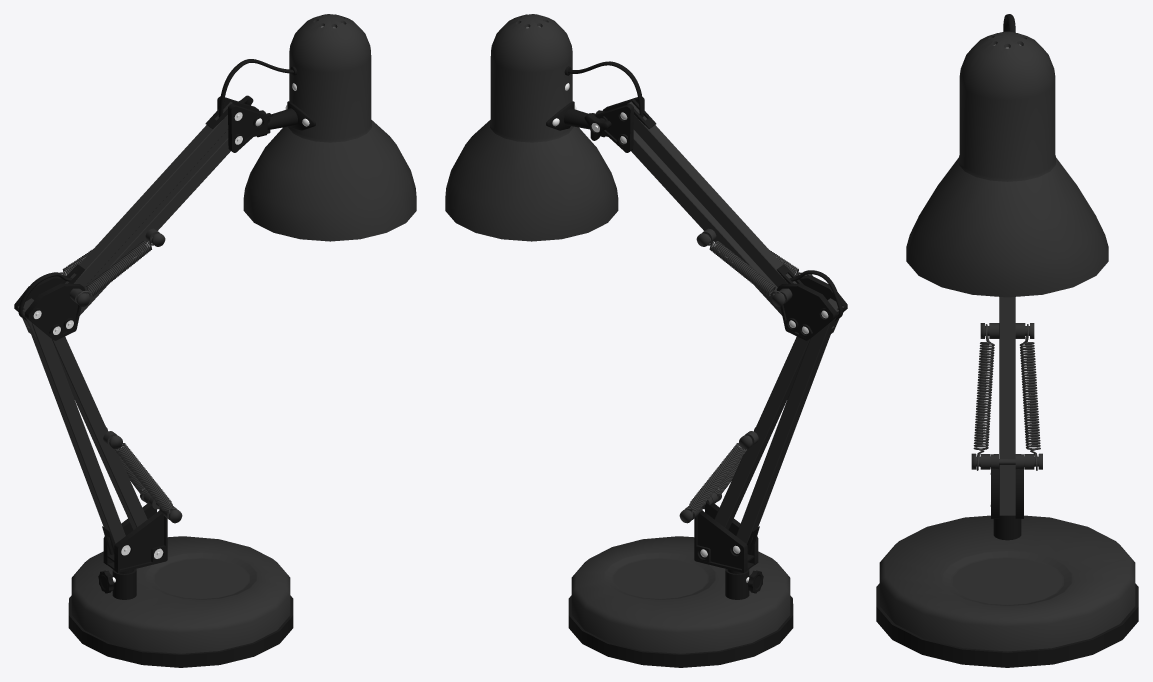
Rendered from desk_lamp.glb.
3 renders of one model, left to right at view 1: azimuth 30°, elevation 25°; view 2: azimuth 150°, elevation 25°; view 3: azimuth 270°, elevation 25°, orthographic. The views are drawn at different scales.
Visible parts, largest first — view 1: Cylinder001_04 - Default_0, Line002_04 - Default_0; view 2: Cylinder001_04 - Default_0, Line002_04 - Default_0; view 3: Cylinder001_04 - Default_0.
Part boxes in pixels (x1=…): Cylinder001_04 - Default_0: x1=14, y1=14, x2=416, y2=667; Line002_04 - Default_0: x1=18, y1=59, x2=293, y2=320; Cylinder001_04 - Default_0: x1=445, y1=14, x2=847, y2=667; Line002_04 - Default_0: x1=568, y1=61, x2=843, y2=320; Cylinder001_04 - Default_0: x1=876, y1=31, x2=1138, y2=667.
Bounding box in the file's own units: 1.86 × 2.59 × 0.9328.
3 materials, 3 textured.
